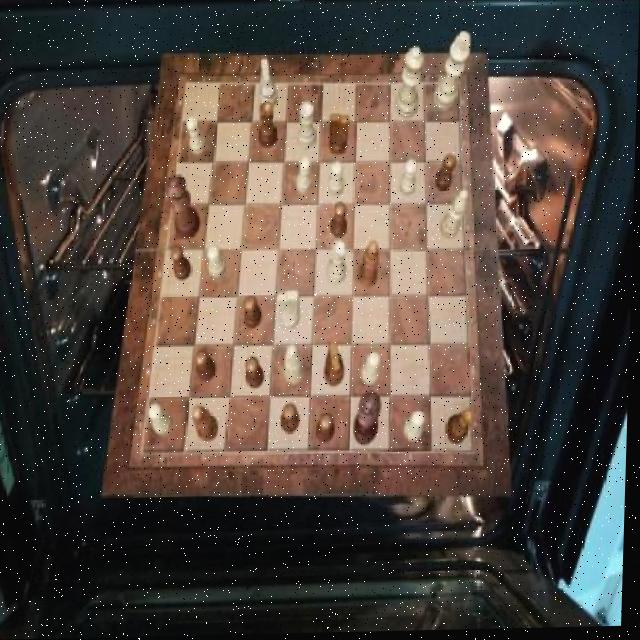bishop: (359, 242, 381, 290), (194, 405, 221, 443)
black-bishop: (357, 392, 385, 447)
black-king: (328, 344, 349, 389), (330, 114, 351, 156)
black-knight: (435, 156, 457, 193), (172, 246, 194, 281), (197, 351, 219, 384), (331, 203, 349, 240), (245, 297, 264, 332), (248, 356, 268, 389), (319, 414, 339, 445), (282, 406, 302, 435)
black-pawn: (167, 175, 204, 241)
black-queen: (449, 409, 479, 447), (259, 103, 279, 149)
black-rook: (442, 192, 471, 241), (286, 345, 308, 386)
white-bishop: (434, 33, 471, 114)
white-king: (259, 62, 279, 111), (280, 291, 304, 330)
white-knight: (187, 118, 208, 157), (151, 405, 176, 437), (406, 412, 428, 445), (363, 353, 383, 387), (209, 247, 230, 279), (401, 162, 419, 198), (297, 158, 314, 195), (329, 163, 347, 197)
white-pawn: (396, 49, 425, 122)
white-queen: (329, 241, 350, 286), (298, 104, 318, 151)
